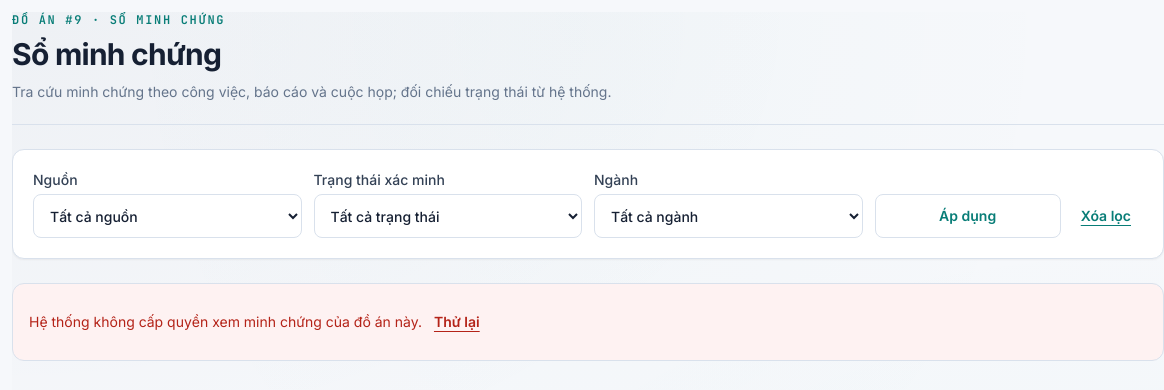
Test: ProjectEvidenceLedger › keeps a 403 distinct from empty state and permits a safe retry
Expected: the message shows "Hệ thống không cấp quyền xem minh chứng", [29, 313, 422, 330]
Click the button "Thử lại": (457, 322) [434, 300, 480, 344]
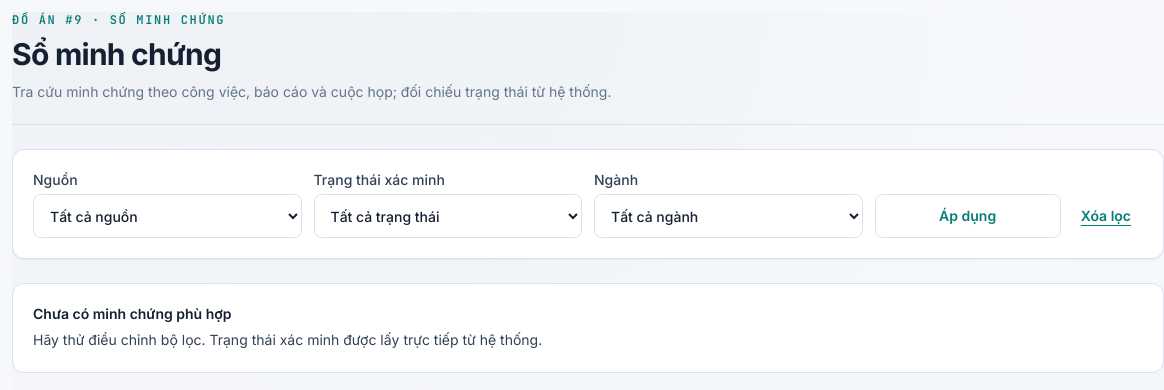
Expected: the heading "Chưa có minh chứng phù hợp" is shown, [33, 305, 232, 322]
